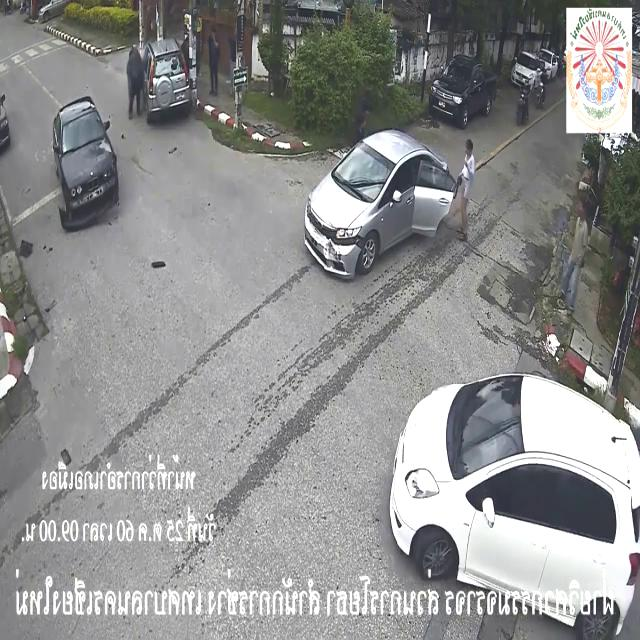accident: (298, 128, 454, 276), (54, 97, 120, 227)
